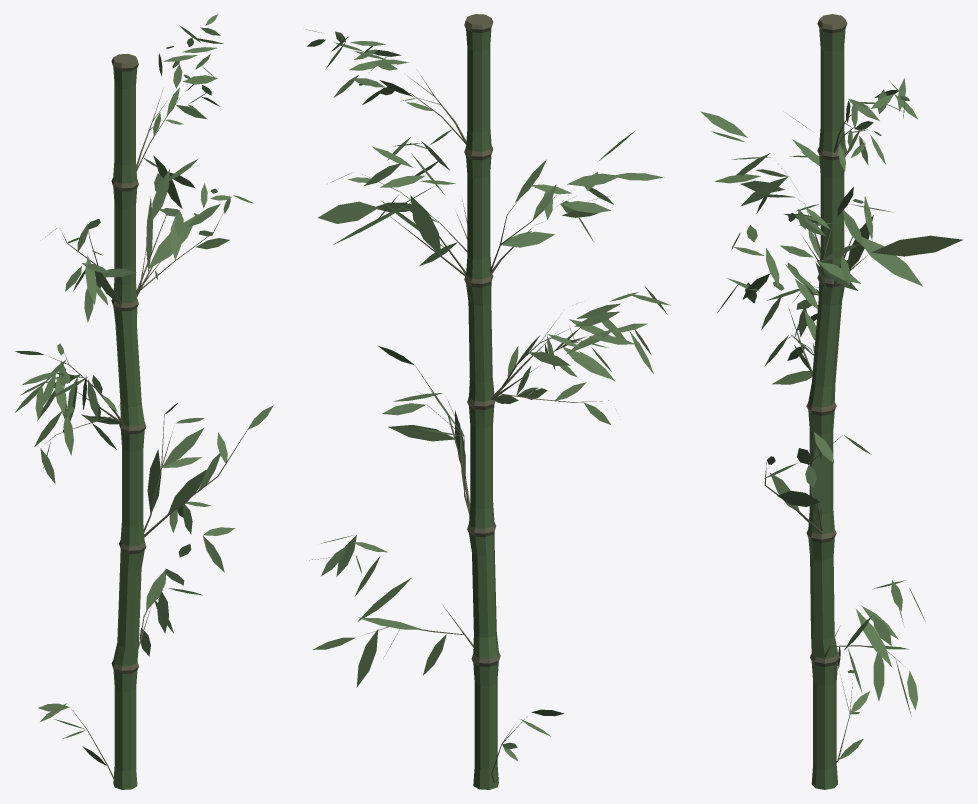
Rendered from Bamboo_01_A.fbx.
3 renders of one model, left to right at view 1: azimuth 30°, elevation 25°; view 2: azimuth 150°, elevation 25°; view 3: azimuth 270°, elevation 25°, orthographic. The views are drawn at different scales.
Parts seen in each view (by area): view 1: Bamboo_01_A; view 2: Bamboo_01_A; view 3: Bamboo_01_A.
Boxes of the visible parts, x1,y1,x2,y2 form: Bamboo_01_A: (15,14,273,789); Bamboo_01_A: (306,14,670,789); Bamboo_01_A: (700,14,963,789).
Bounding box in the file's own units: 64.11 × 158 × 49.16.
